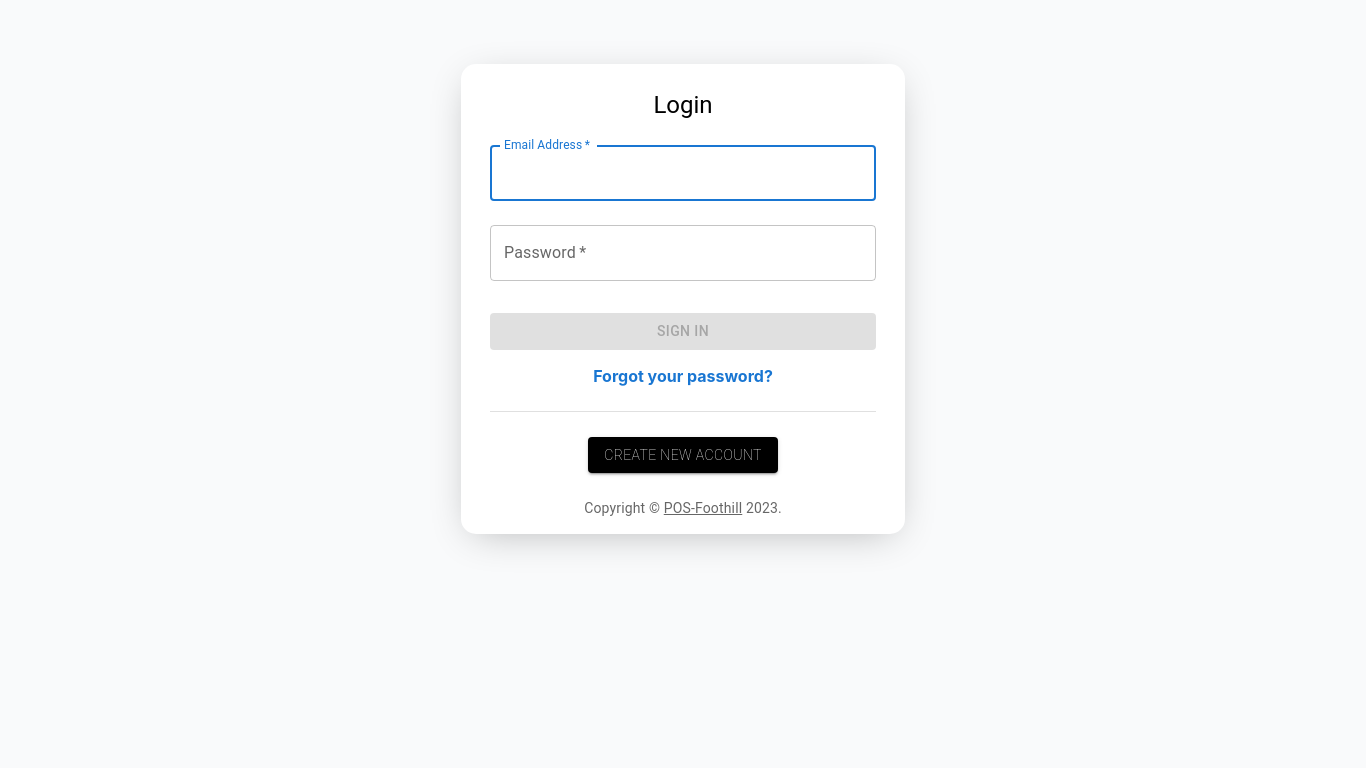
components/SignUp › Validations › Should show `Invalid Email address` when falsy email is entered
Type "test@" into the field labelled "Email Address *". click: (683, 173)
box: [490,145,876,201]
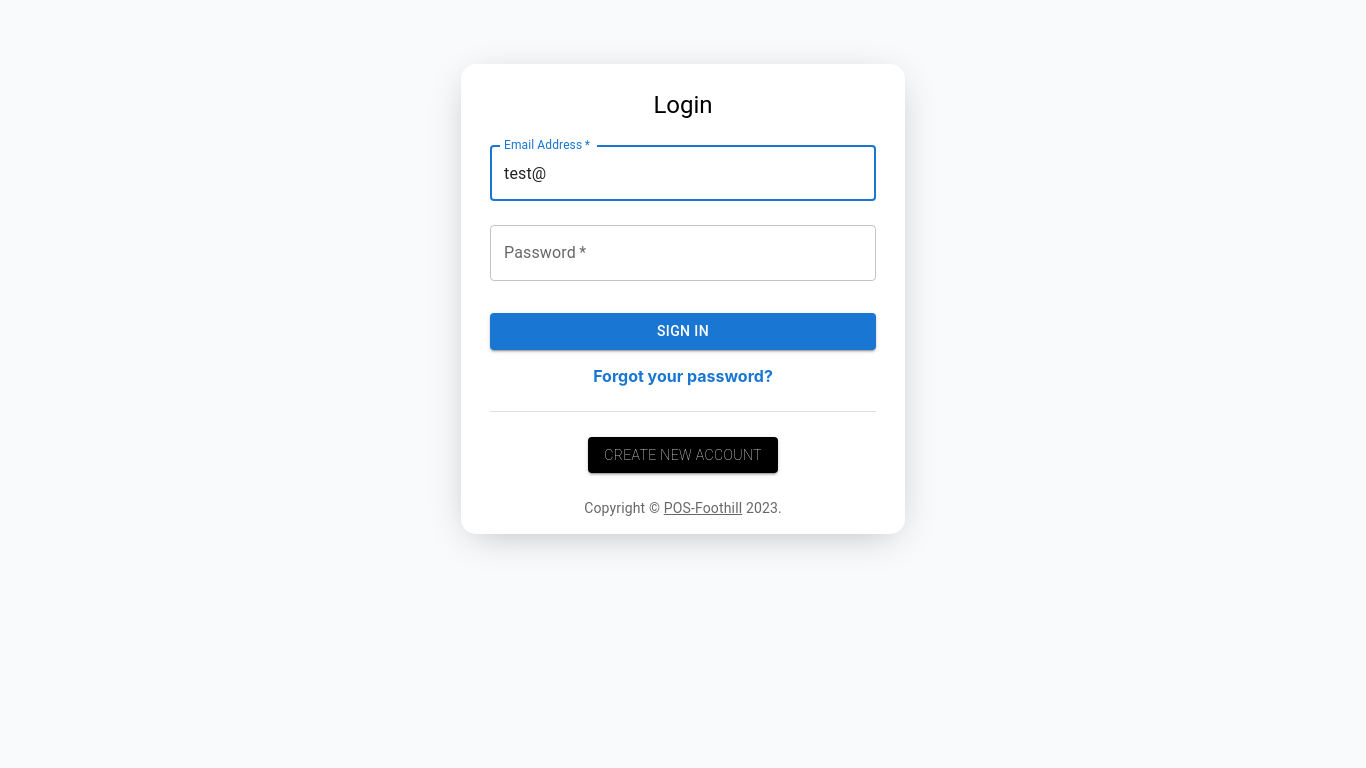
Click the element that starts with "Login". click: (683, 299)
box: [0,64,1365,534]
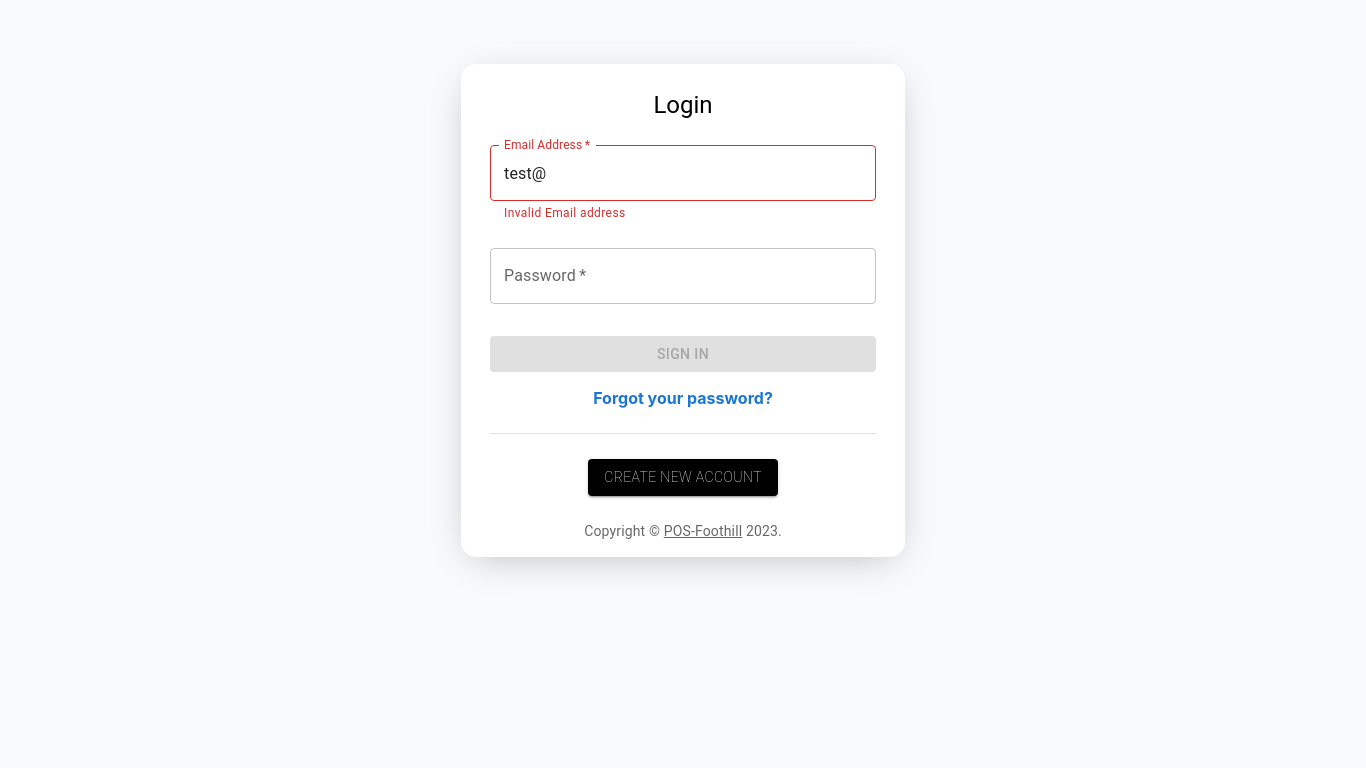
Result: the text "Invalid Email address" is shown at [504,206,626,220]
